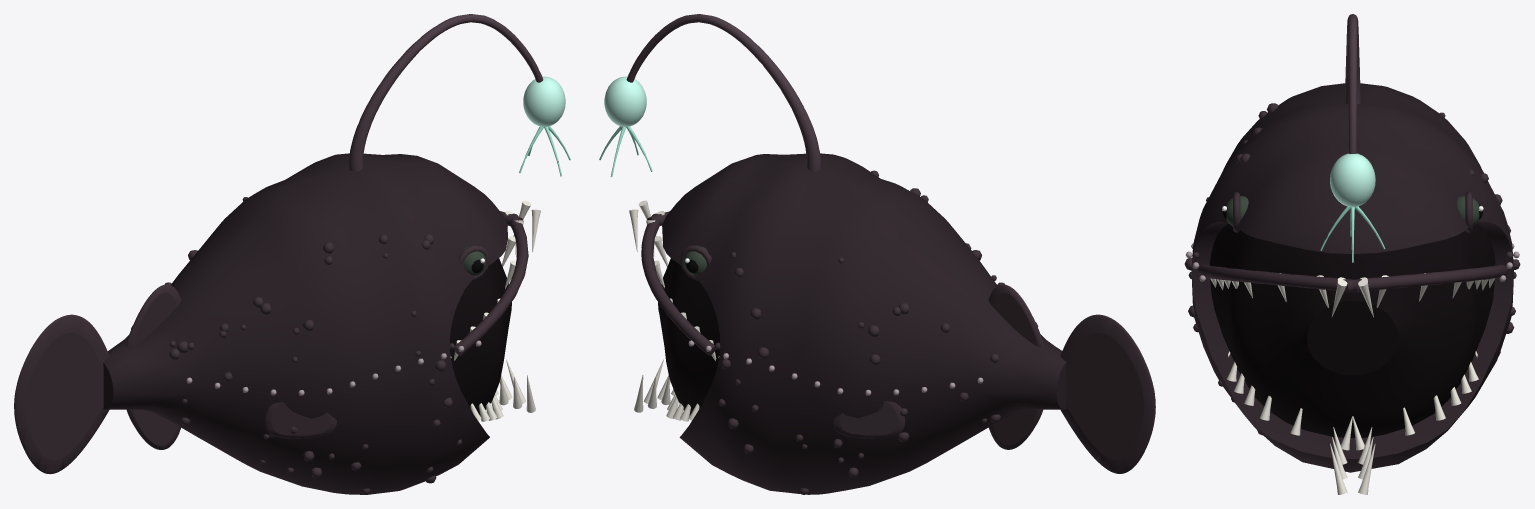
The model's file is anglerfish.glb.
The picture shows the model from 3 angles, left to right: view 1: azimuth 30°, elevation 25°; view 2: azimuth 150°, elevation 25°; view 3: azimuth 270°, elevation 25°; orthographic projection. The views are drawn at different scales.
Visible parts, largest first — view 1: Body, Fins, Mouth, Rod, Bumps, Teeth, Lips, Lure; view 2: Body, Fins, Mouth, Rod, Bumps, Teeth, Lips, Lure; view 3: Body, Mouth, Teeth, Lips, Lure, Rod, Bumps, Irises, EyeRims, Filaments.
Part boxes in pixels (bbox=[...]): Body: bbox=[103, 153, 507, 494]; Fins: bbox=[14, 284, 336, 474]; Mouth: bbox=[449, 258, 511, 416]; Rod: bbox=[349, 14, 543, 171]; Bumps: bbox=[131, 197, 462, 494]; Teeth: bbox=[450, 200, 540, 421]; Lips: bbox=[454, 211, 528, 355]; Lure: bbox=[523, 76, 565, 126]; Body: bbox=[662, 153, 1066, 494]; Fins: bbox=[833, 284, 1155, 473]; Mouth: bbox=[658, 258, 719, 415]; Rod: bbox=[626, 14, 821, 171]; Bumps: bbox=[714, 170, 1038, 494]; Teeth: bbox=[629, 200, 719, 421]; Lips: bbox=[641, 211, 715, 355]; Lure: bbox=[604, 76, 646, 126]; Body: bbox=[1191, 83, 1513, 472]; Mouth: bbox=[1210, 223, 1495, 437]; Teeth: bbox=[1210, 273, 1495, 494]; Lips: bbox=[1198, 264, 1507, 292]; Lure: bbox=[1330, 153, 1375, 207]; Rod: bbox=[1345, 14, 1360, 153]; Bumps: bbox=[1184, 103, 1520, 435]; Irises: bbox=[1226, 196, 1479, 226]; EyeRims: bbox=[1233, 192, 1472, 232]; Filaments: bbox=[1320, 206, 1385, 262].
Size of the model in its own units: 0.1087 by 0.0829 by 0.0528.
